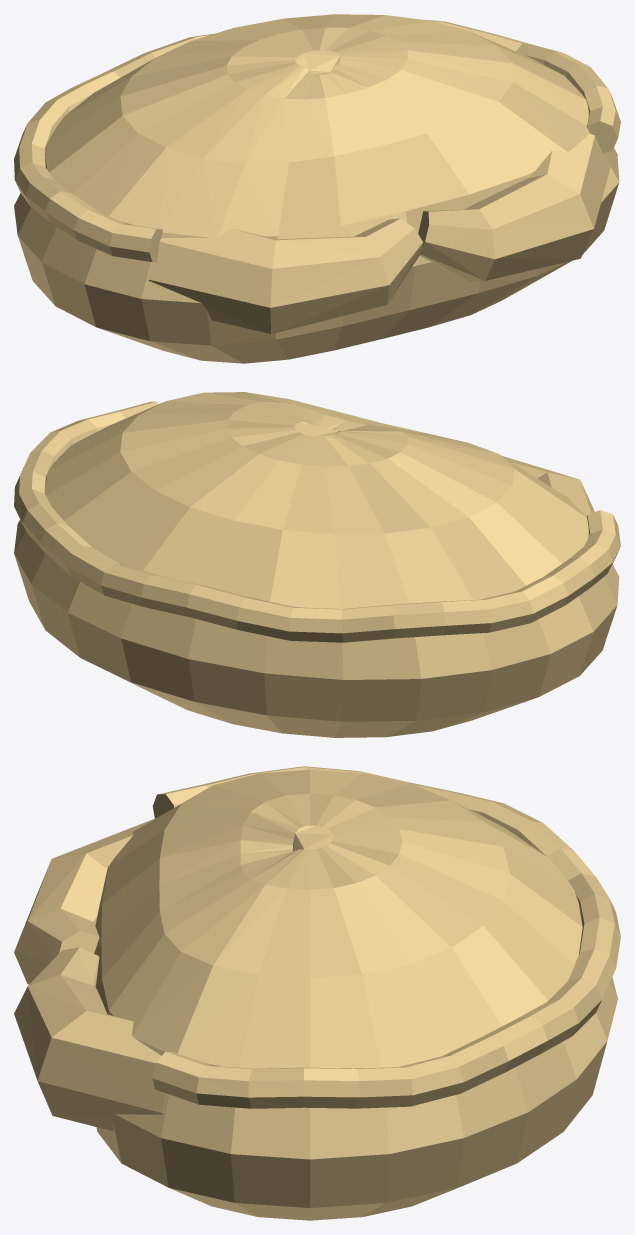
File: ED_01_Curled_Pelmeni.fbx
3 views of the same model, one above another, from view 1: azimuth 30°, elevation 25°; view 2: azimuth 150°, elevation 25°; view 3: azimuth 270°, elevation 25° (orthographic). The views are drawn at different scales.
Visible parts, largest first — view 1: ED_01_Curled_Pelmeni; view 2: ED_01_Curled_Pelmeni; view 3: ED_01_Curled_Pelmeni.
Part boxes in pixels (x1,y1,x2,y2): ED_01_Curled_Pelmeni: [14, 14, 620, 363]; ED_01_Curled_Pelmeni: [14, 392, 620, 737]; ED_01_Curled_Pelmeni: [14, 766, 620, 1220].
Size of the model in its own units: 0.85 by 0.37 by 0.6803.
1 material, 1 textured.
